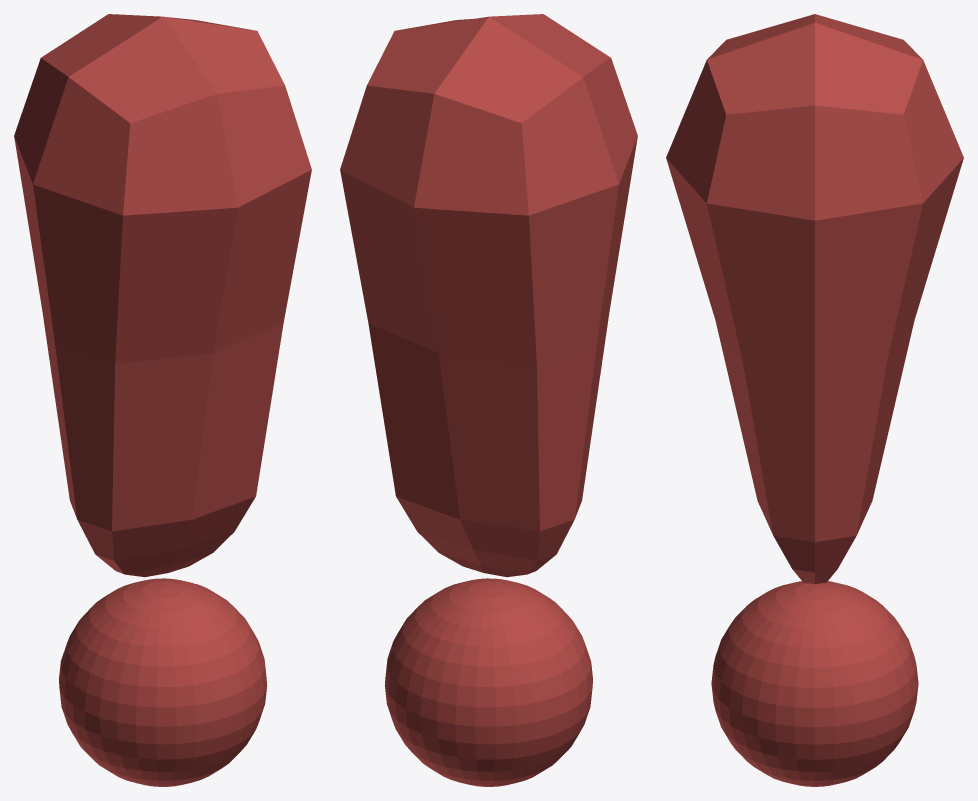
File: admiracion.fbx
3 views of the same model, side by side, from view 1: azimuth 30°, elevation 25°; view 2: azimuth 150°, elevation 25°; view 3: azimuth 270°, elevation 25° (orthographic).
Parts seen in each view (by area): view 1: Cube; view 2: Cube; view 3: Cube.
Boxes of the visible parts, left/top/right/bottom form: Cube: left=14, top=14, right=311, bottom=786; Cube: left=340, top=14, right=637, bottom=786; Cube: left=666, top=14, right=963, bottom=786.
Bounding box in the file's own units: 168 × 469 × 168.
